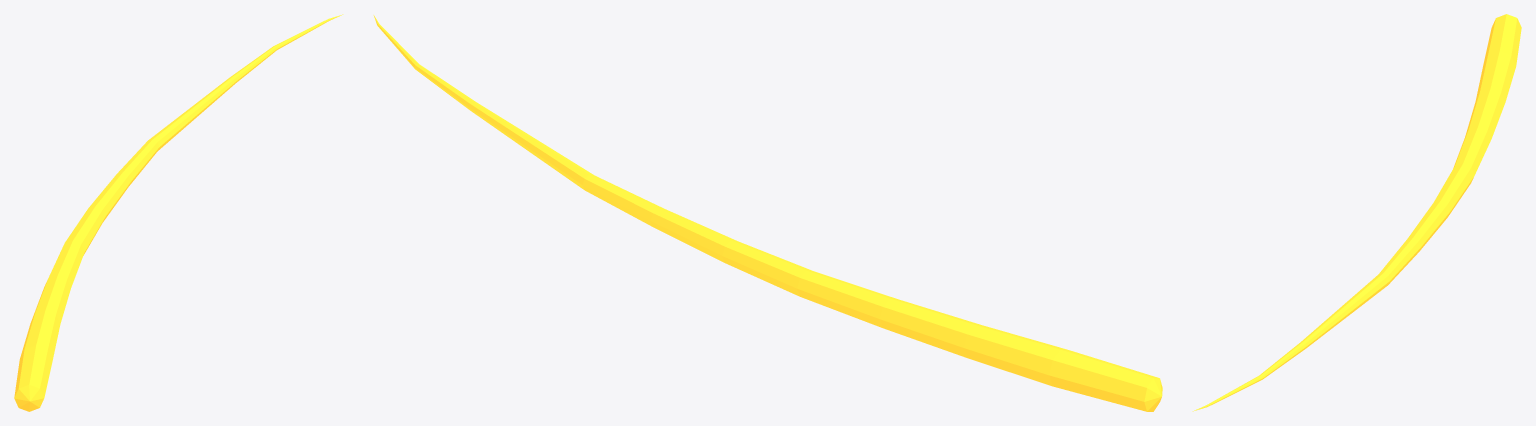
The model's file is spinner_big.glb.
3 views of the same model, side by side, from view 1: azimuth 90°, elevation 25°; view 2: azimuth 150°, elevation 25°; view 3: azimuth 270°, elevation 25° (orthographic). The views are drawn at different scales.
Parts seen in each view (by area): view 1: spinner.001; view 2: spinner.001; view 3: spinner.001.
Boxes of the visible parts, left/top/right/bottom form: spinner.001: left=14, top=14, right=343, bottom=411; spinner.001: left=373, top=15, right=1162, bottom=411; spinner.001: left=1192, top=14, right=1521, bottom=411.
Size of the model in its own units: 0.1257 by 0.00454 by 0.0453.
